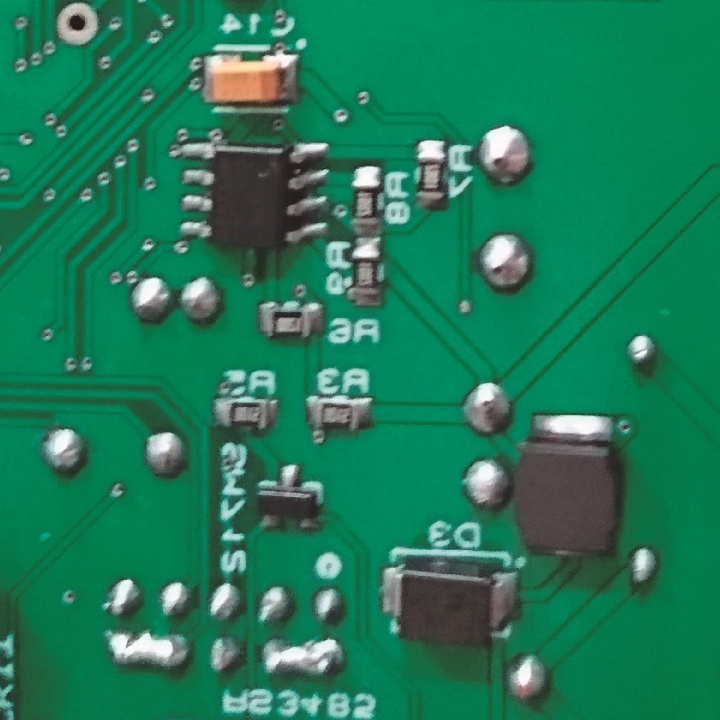F: (55, 1, 101, 51)
P: (105, 627, 193, 675), (257, 635, 344, 682)
